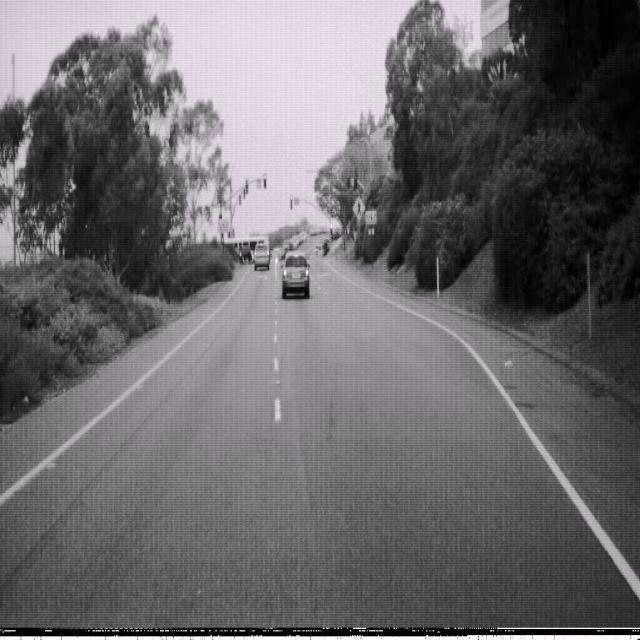pedestrianCrossing: (350, 194, 366, 222)
